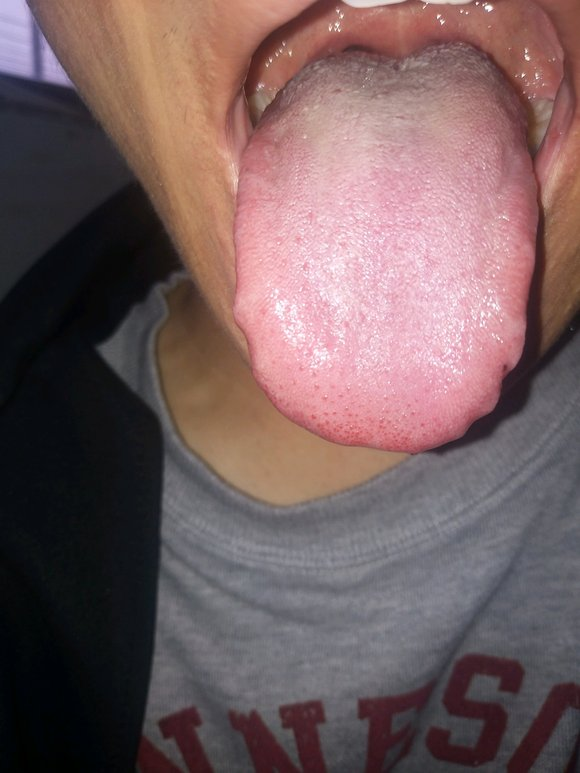baitaishe: (233, 40, 539, 452)
chihenshe: (234, 316, 256, 371)
